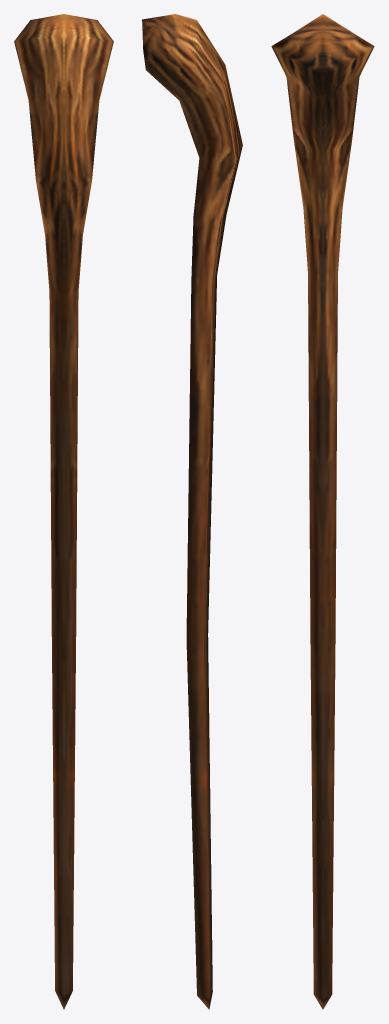
File: Staff01.FBX
3 views of the same model, side by side, from view 1: azimuth 90°, elevation 25°; view 2: azimuth 210°, elevation 25°; view 3: azimuth 270°, elevation 25° (orthographic). The views are drawn at different scales.
Parts seen in each view (by area): view 1: Staff01; view 2: Staff01; view 3: Staff01.
Part boxes in pixels (<box>): Staff01: <box>14,14,113,1009</box>; Staff01: <box>142,14,242,1009</box>; Staff01: <box>271,14,374,1009</box>.
Size of the model in its own units: 17.5 by 168 by 15.55.
